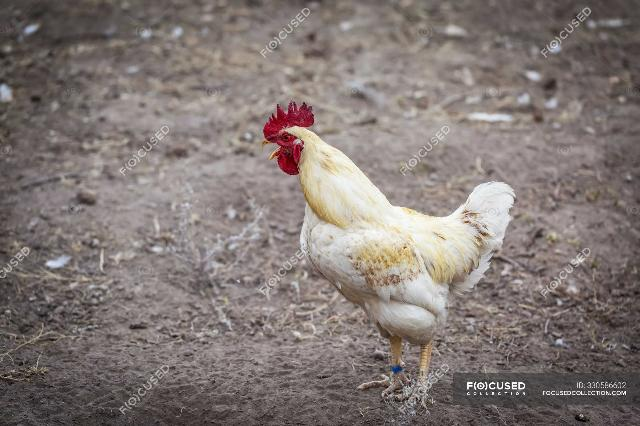Chicken: (262, 99, 515, 401)
